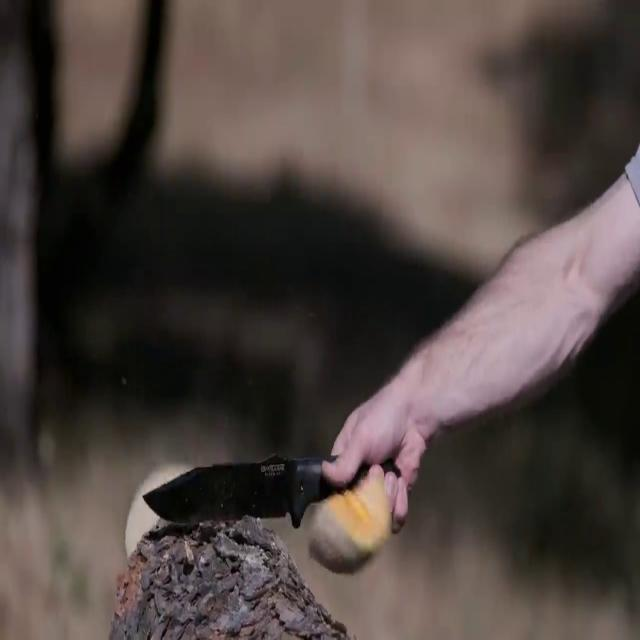Knife: (132, 448, 362, 535)
